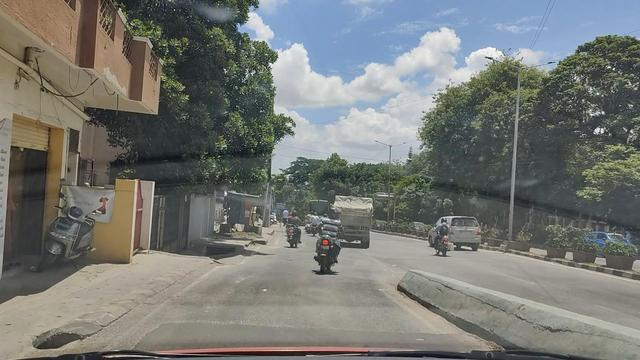HMV: (321, 189, 376, 247)
RoadDamages: (18, 315, 95, 360)
